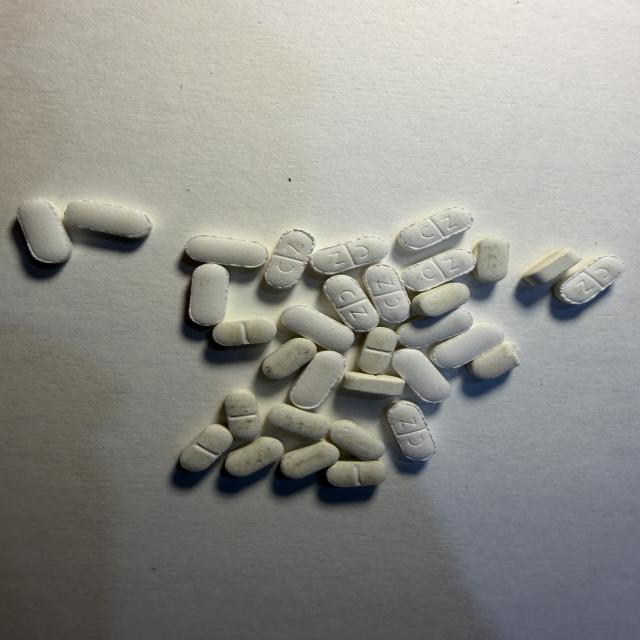pill: (18, 199, 72, 263), (554, 256, 624, 304), (281, 305, 354, 351), (430, 323, 503, 368), (65, 201, 152, 238), (290, 351, 345, 409), (399, 208, 473, 250), (324, 275, 379, 331), (402, 249, 475, 291), (393, 349, 450, 402), (264, 230, 315, 289), (397, 309, 472, 348), (311, 237, 388, 274), (387, 401, 435, 460), (363, 265, 410, 323), (186, 236, 268, 268), (189, 264, 228, 326), (180, 425, 232, 471), (225, 437, 283, 477), (262, 338, 317, 379), (280, 441, 339, 479), (330, 420, 384, 460), (523, 248, 581, 285), (268, 404, 329, 438), (467, 341, 519, 379), (412, 283, 470, 316), (358, 327, 397, 374), (225, 390, 260, 439), (213, 319, 276, 346), (472, 237, 509, 282), (327, 461, 387, 487), (342, 372, 404, 395)
